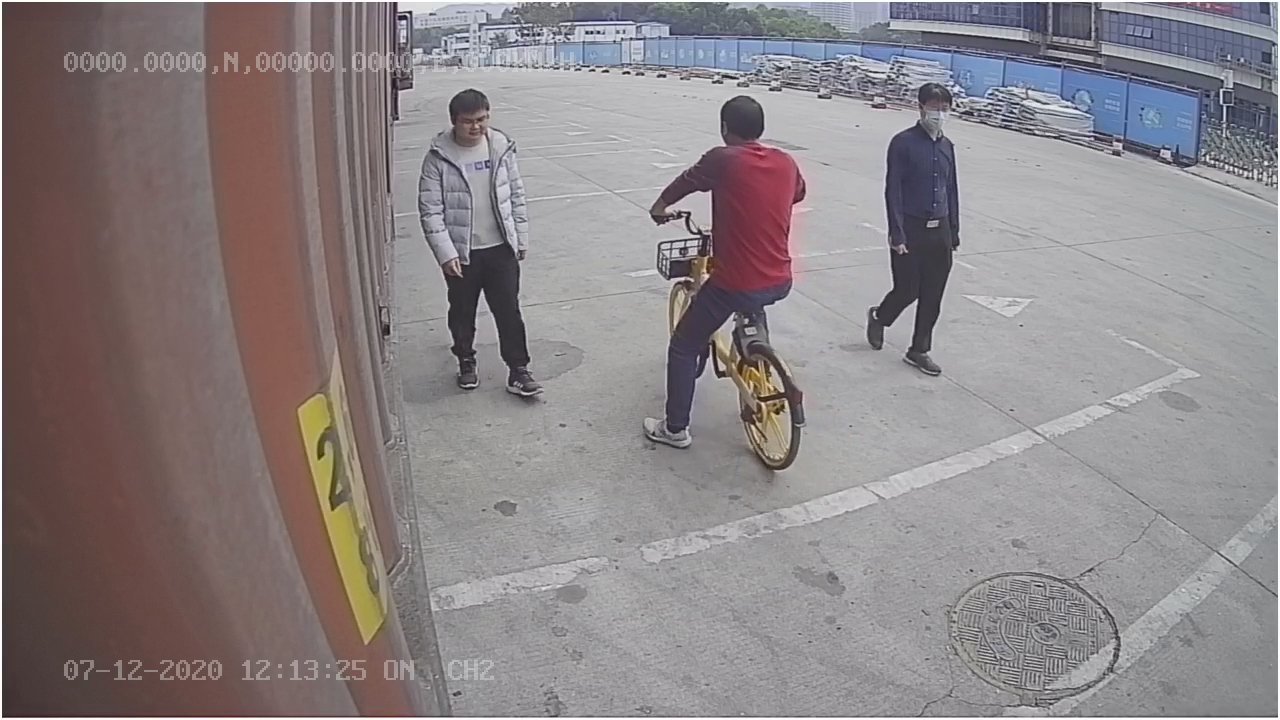person: (416, 84, 548, 396), (860, 76, 965, 376)
